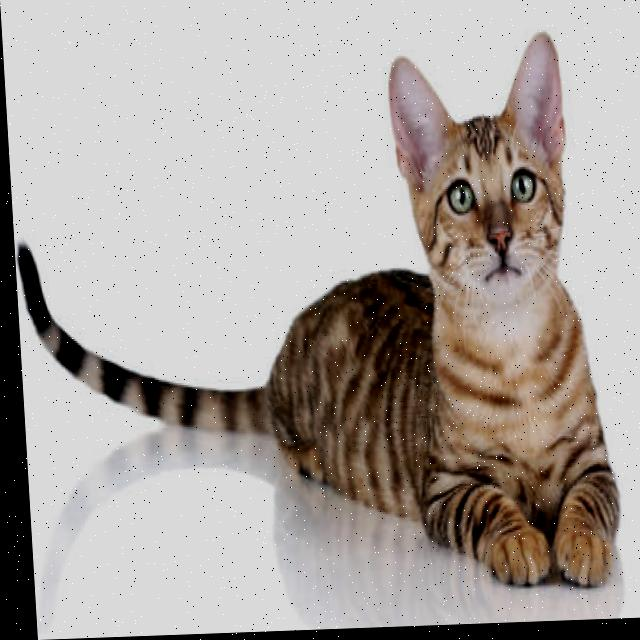Toyger: (2, 29, 620, 613)
